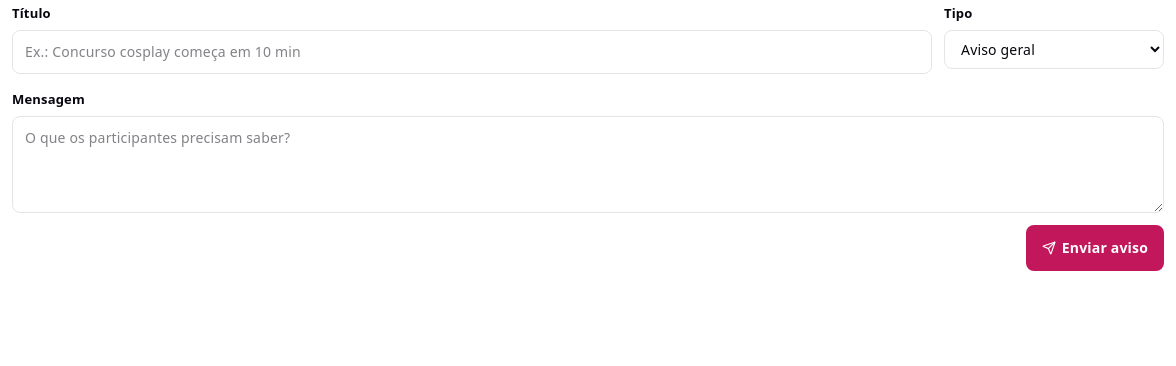
it: NotificationForm › envia o aviso sem espaços nas pontas e limpa o formulário
The width and height of the screenshot is (1176, 366).
Step 1. Type "  Atraso  " into the field labelled "Título" → [472, 52], box [12, 30, 932, 74]
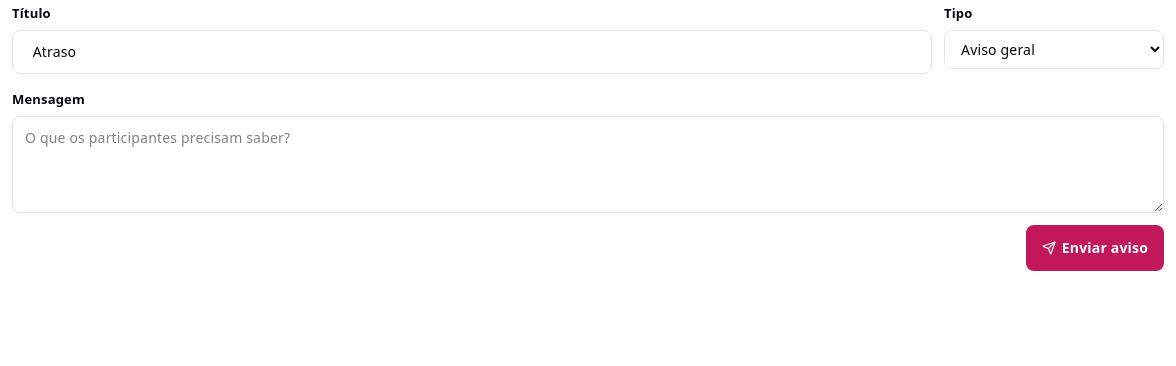
Step 2. Type " Show às 15h " into the text box labelled "Mensagem" → [588, 164], box [12, 116, 1164, 213]
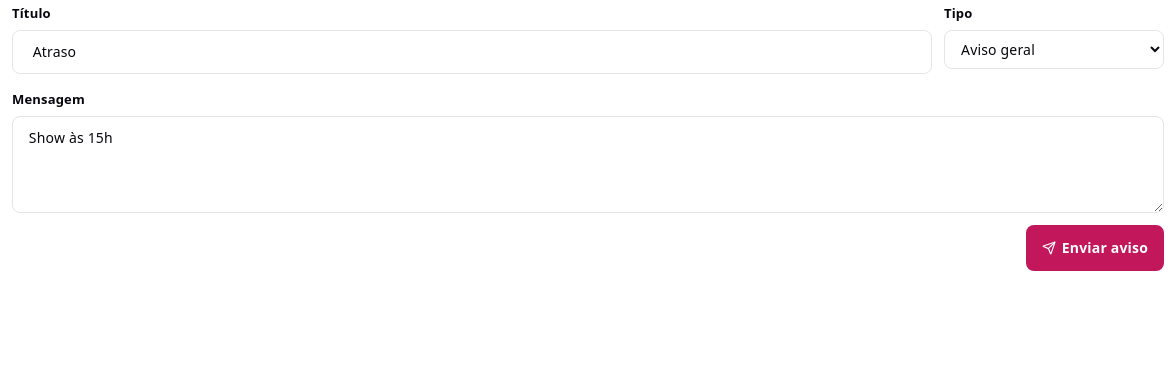
Step 3. Select "Mudança na programação" in the dropdown labelled "Tipo" → [1054, 50], box [944, 30, 1164, 69]
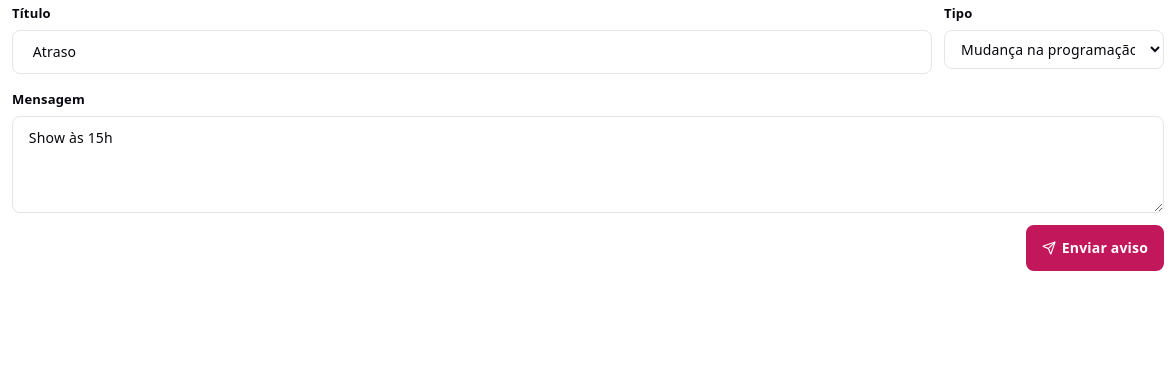
Step 4. Click the button "Enviar aviso" → [1095, 248], box [1026, 225, 1164, 271]
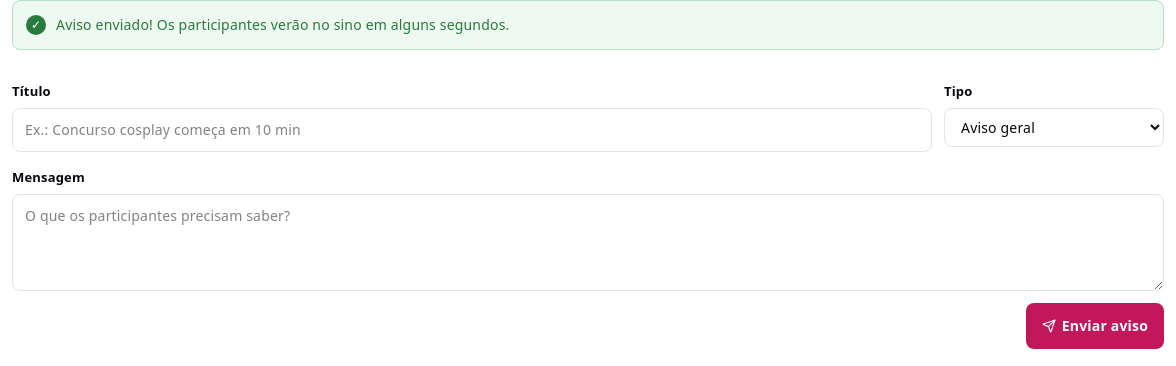
Result: the message shows "Aviso enviado!" at [56, 15, 510, 34]
Result: the field labelled "Título" is empty at [12, 108, 932, 152]
